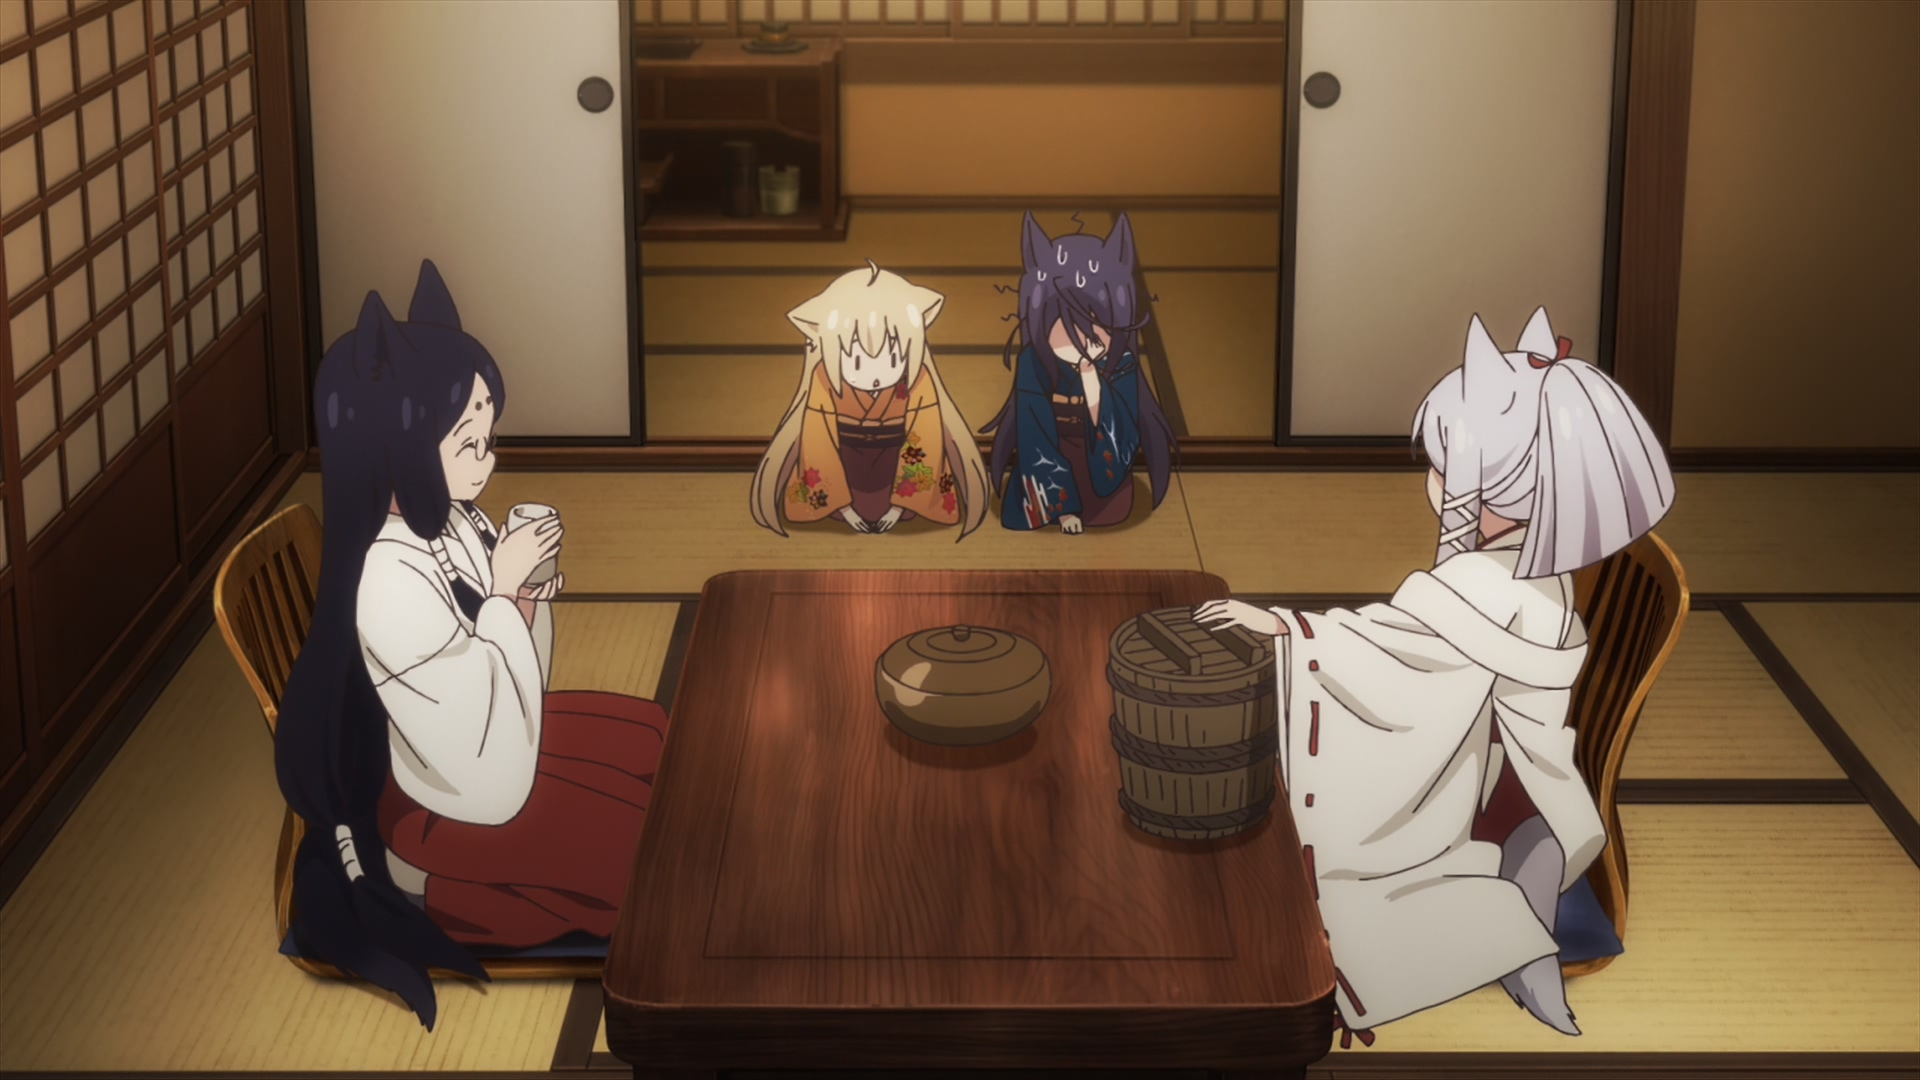柊: (1193, 309, 1675, 1035)
柚: (752, 258, 992, 545)
皋: (981, 211, 1171, 537)
菖: (274, 258, 671, 1034)
